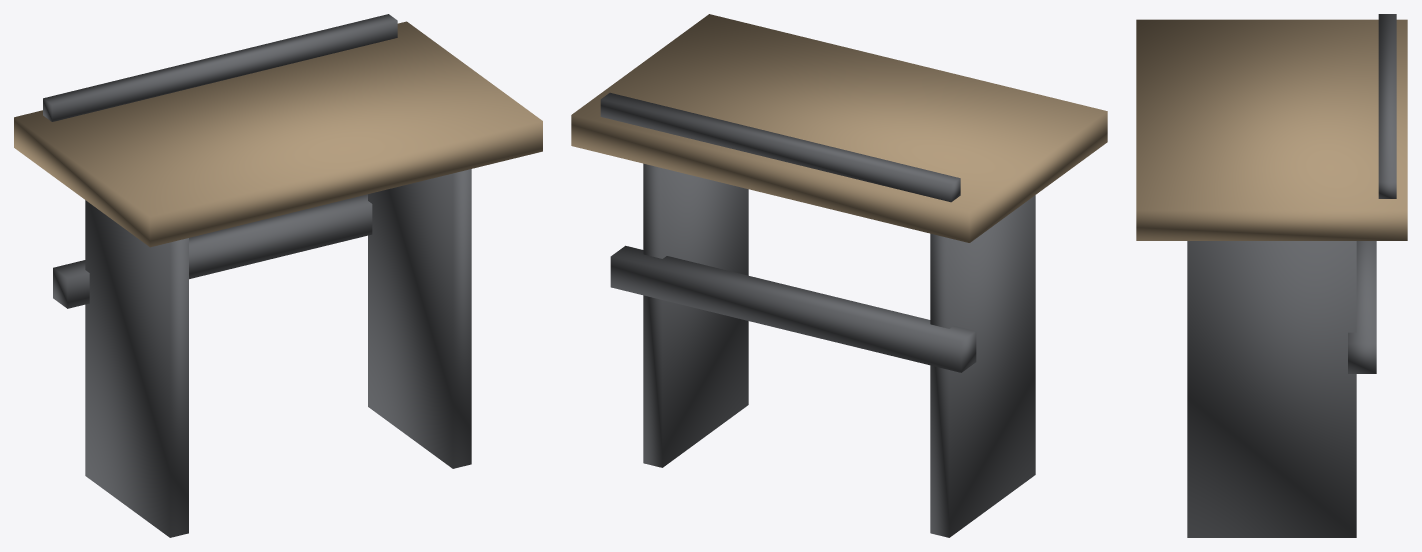
Rendered from drafting_table__tall.glb.
3 views of the same model, side by side, from view 1: azimuth 30°, elevation 25°; view 2: azimuth 150°, elevation 25°; view 3: azimuth 270°, elevation 25° (orthographic).
Visible parts, largest first — view 1: world; view 2: world; view 3: world.
Boxes of the visible parts, x1,y1,x2,y2 form: world: (14, 14, 542, 537); world: (571, 14, 1107, 537); world: (1136, 14, 1407, 537).
Size of the model in its own units: 1.25 by 1.12 by 0.75.
